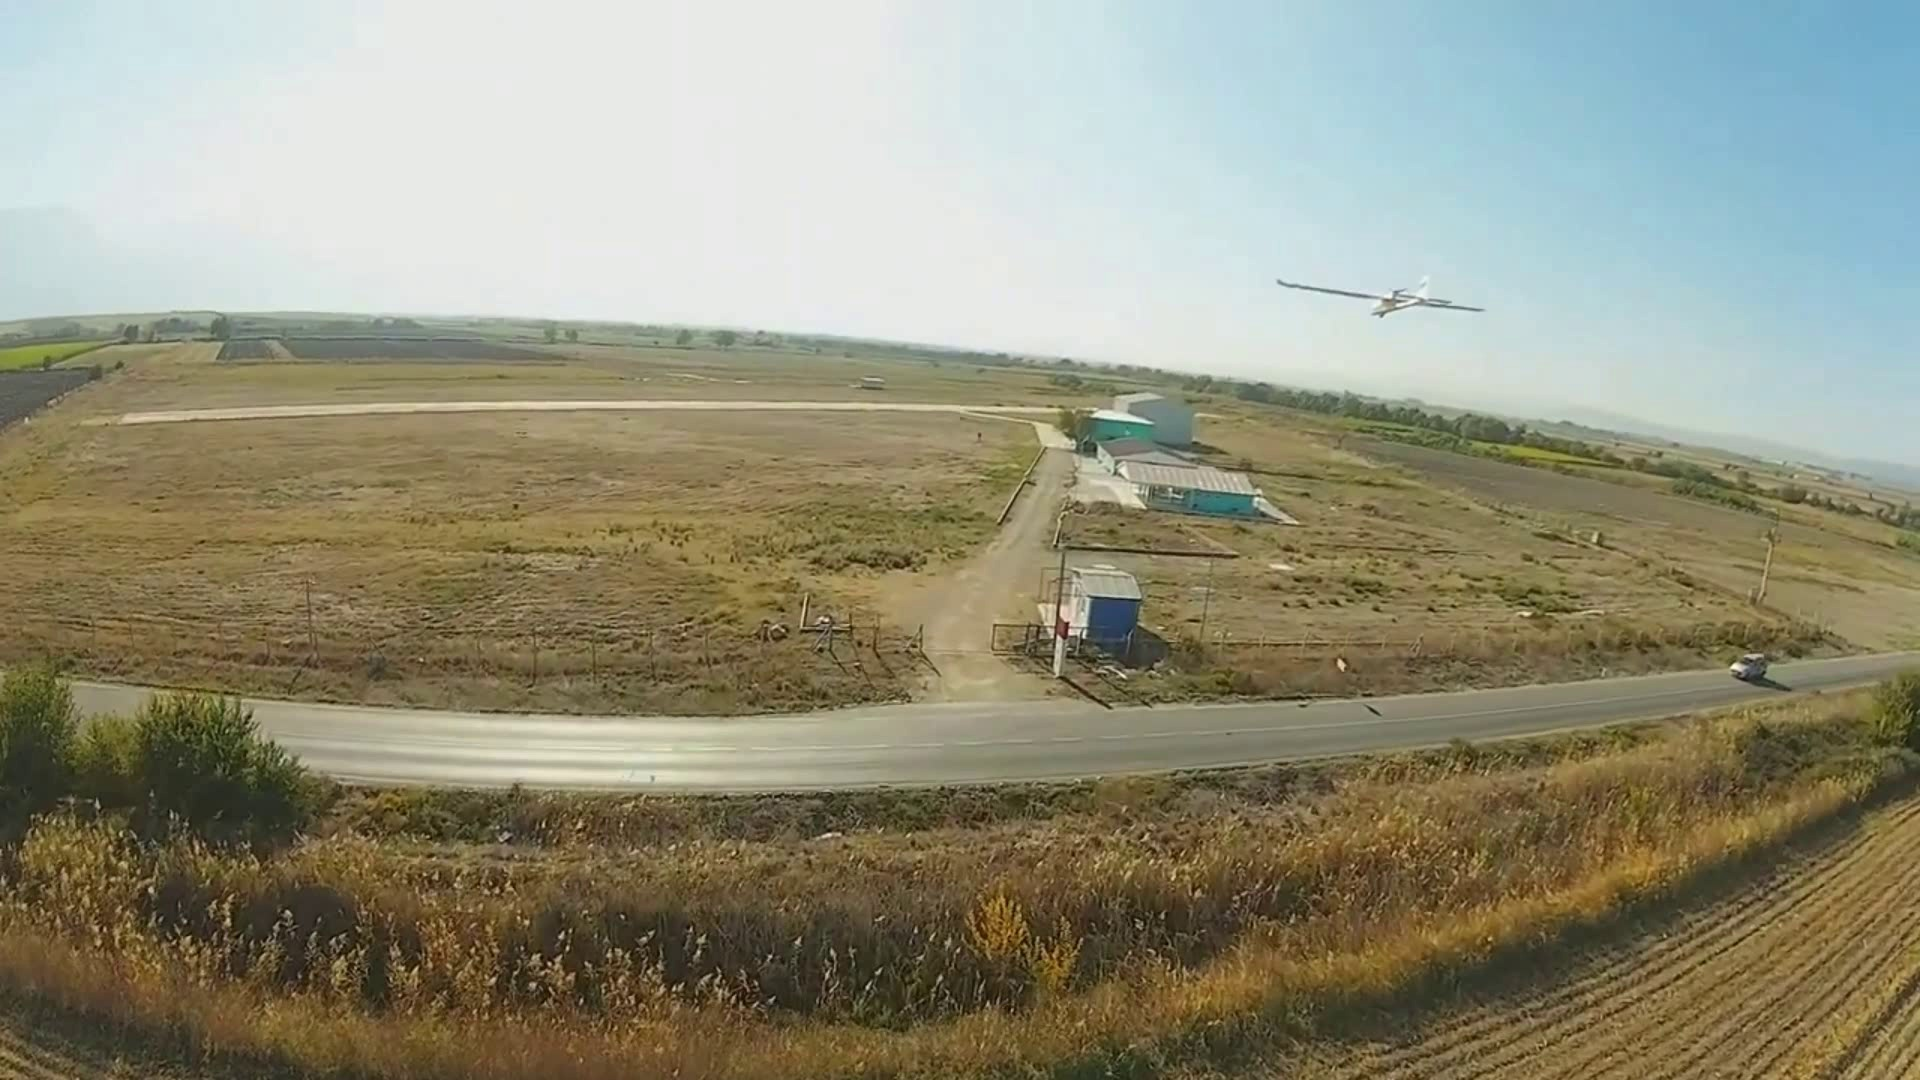airplane: (1273, 265, 1487, 318)
